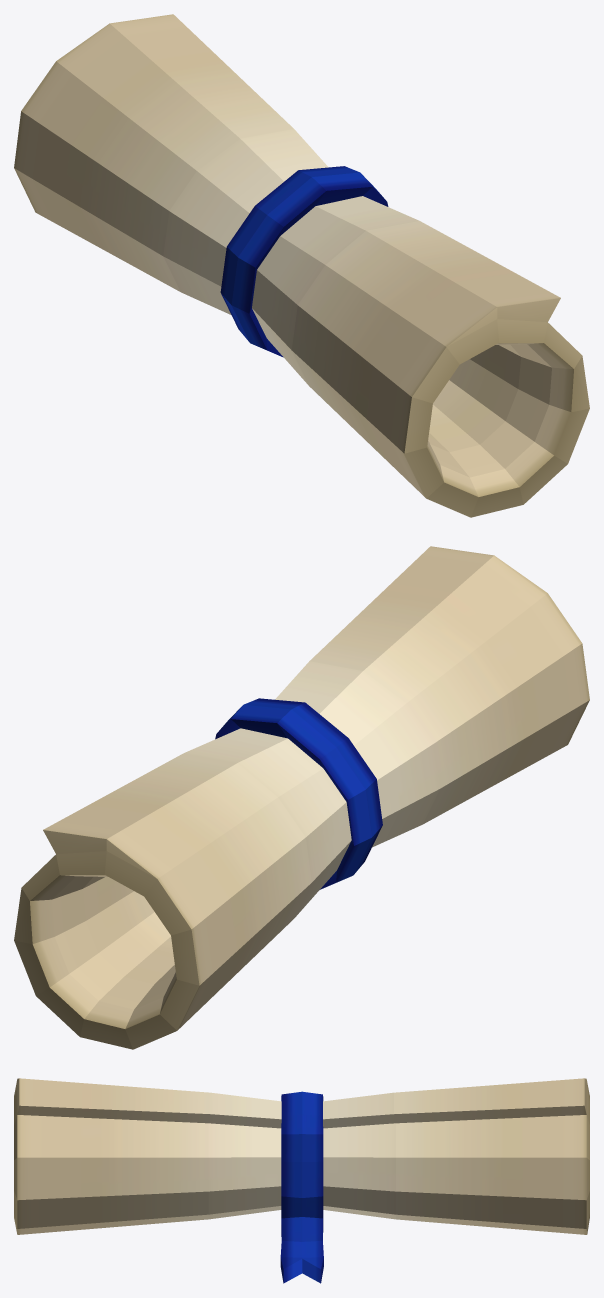
The model's file is quaternius-rpg-asset-rollofpaper.glb.
3 views of the same model, one above another, from view 1: azimuth 30°, elevation 25°; view 2: azimuth 150°, elevation 25°; view 3: azimuth 270°, elevation 25° (orthographic). The views are drawn at different scales.
Parts seen in each view (by area): view 1: Roll; view 2: Roll; view 3: Roll.
Boxes of the visible parts, x1=… form: Roll: x1=14, y1=14, x2=589, y2=517; Roll: x1=14, y1=546, x2=589, y2=1049; Roll: x1=14, y1=1078, x2=589, y2=1283.
Bounding box in the file's own units: 0.8302 × 0.6762 × 2.32.
1 material, 1 textured.
